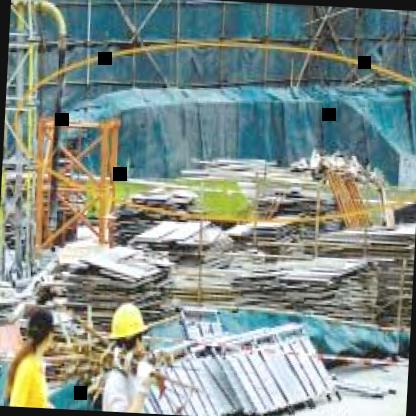head: (17, 304, 61, 364)
helmet: (108, 296, 150, 366)
